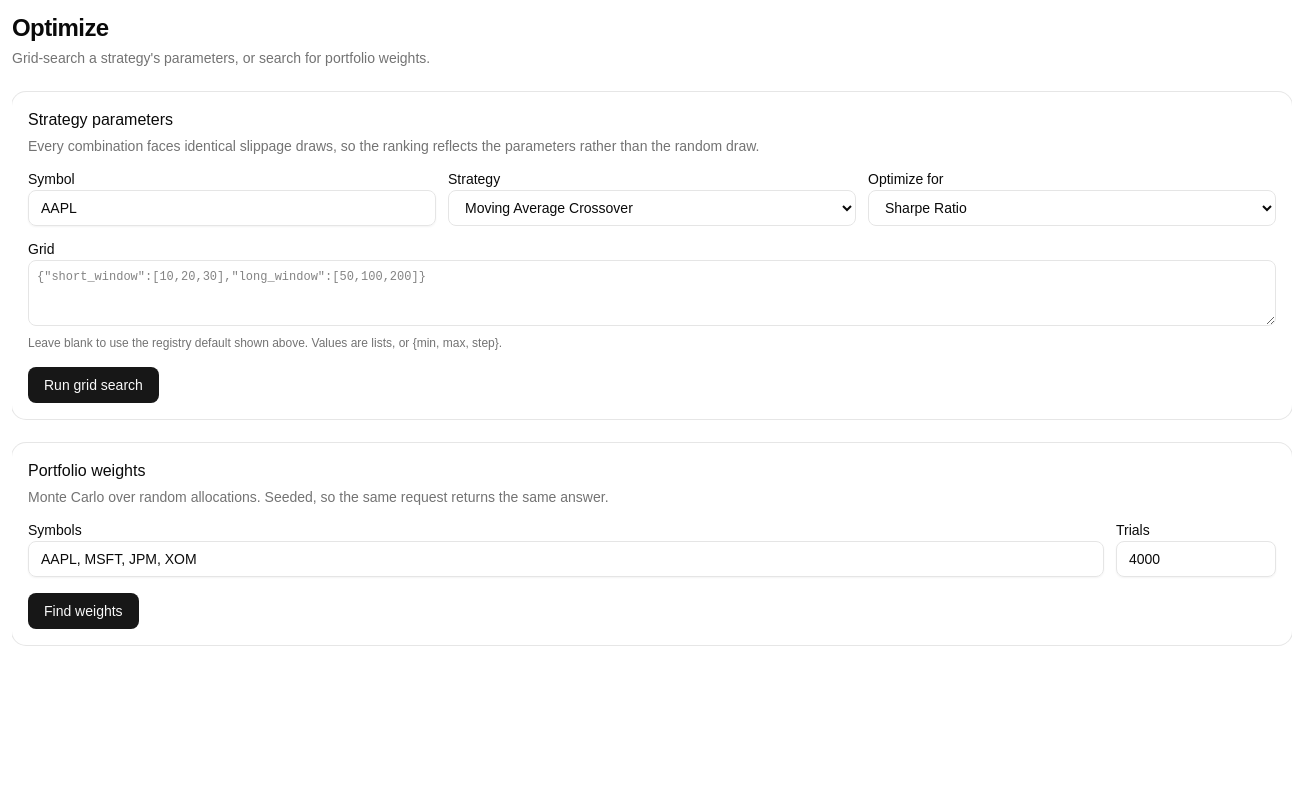
Test: OptimizePage — grid search › cannot run a strategy that has no default sweep and no typed grid
Select "Trend Following" in the dropdown labelled "Strategy": (652, 208) [448,190,856,226]
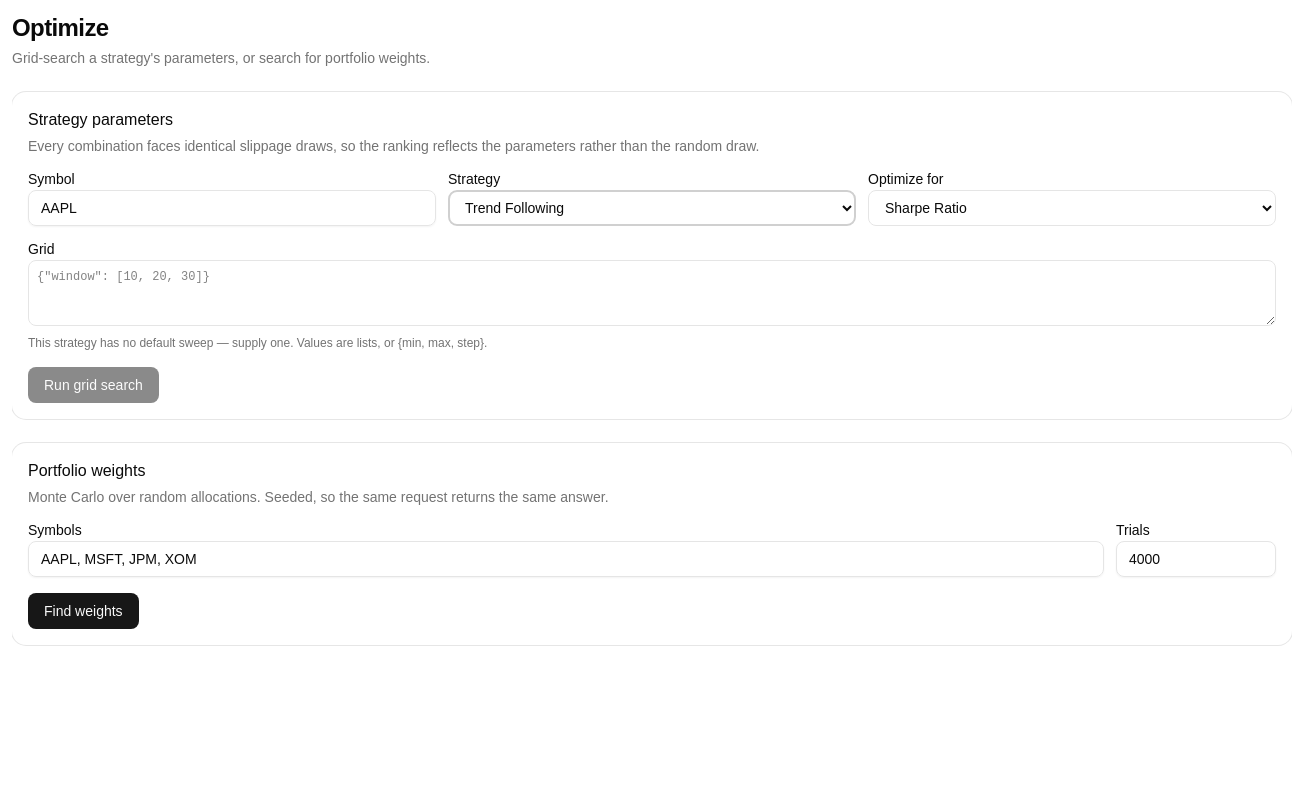
Now the text "no default sweep" is shown, box [28,336,294,350]
Now the button "Run grid search" is disabled, box [28,367,159,403]
